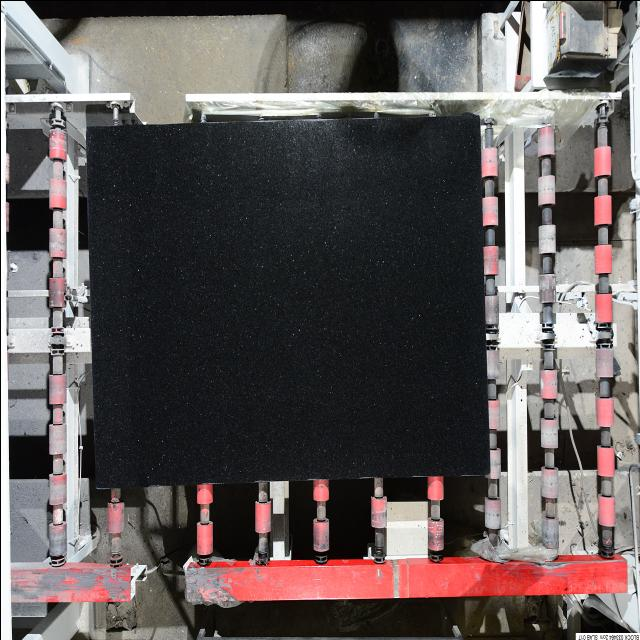chapa: (86, 113, 489, 486)
